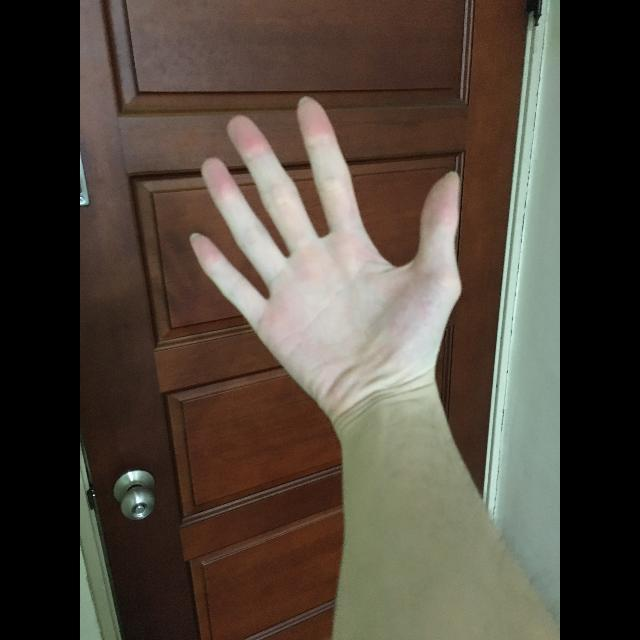bare_hand: (192, 95, 464, 420)
